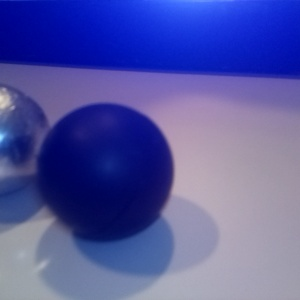alive_ball: (23, 76, 224, 284), (166, 20, 204, 61)
dead_ball: (1, 41, 53, 182), (187, 17, 223, 56)
